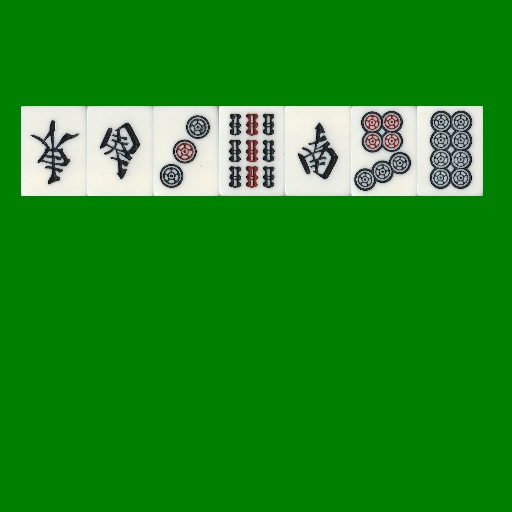3p: (153, 106, 219, 196)
7p: (351, 106, 417, 196)
8p: (417, 106, 483, 196)
9s: (219, 106, 285, 196)
east: (21, 106, 87, 196)
south: (87, 106, 153, 196), (285, 106, 351, 196)
